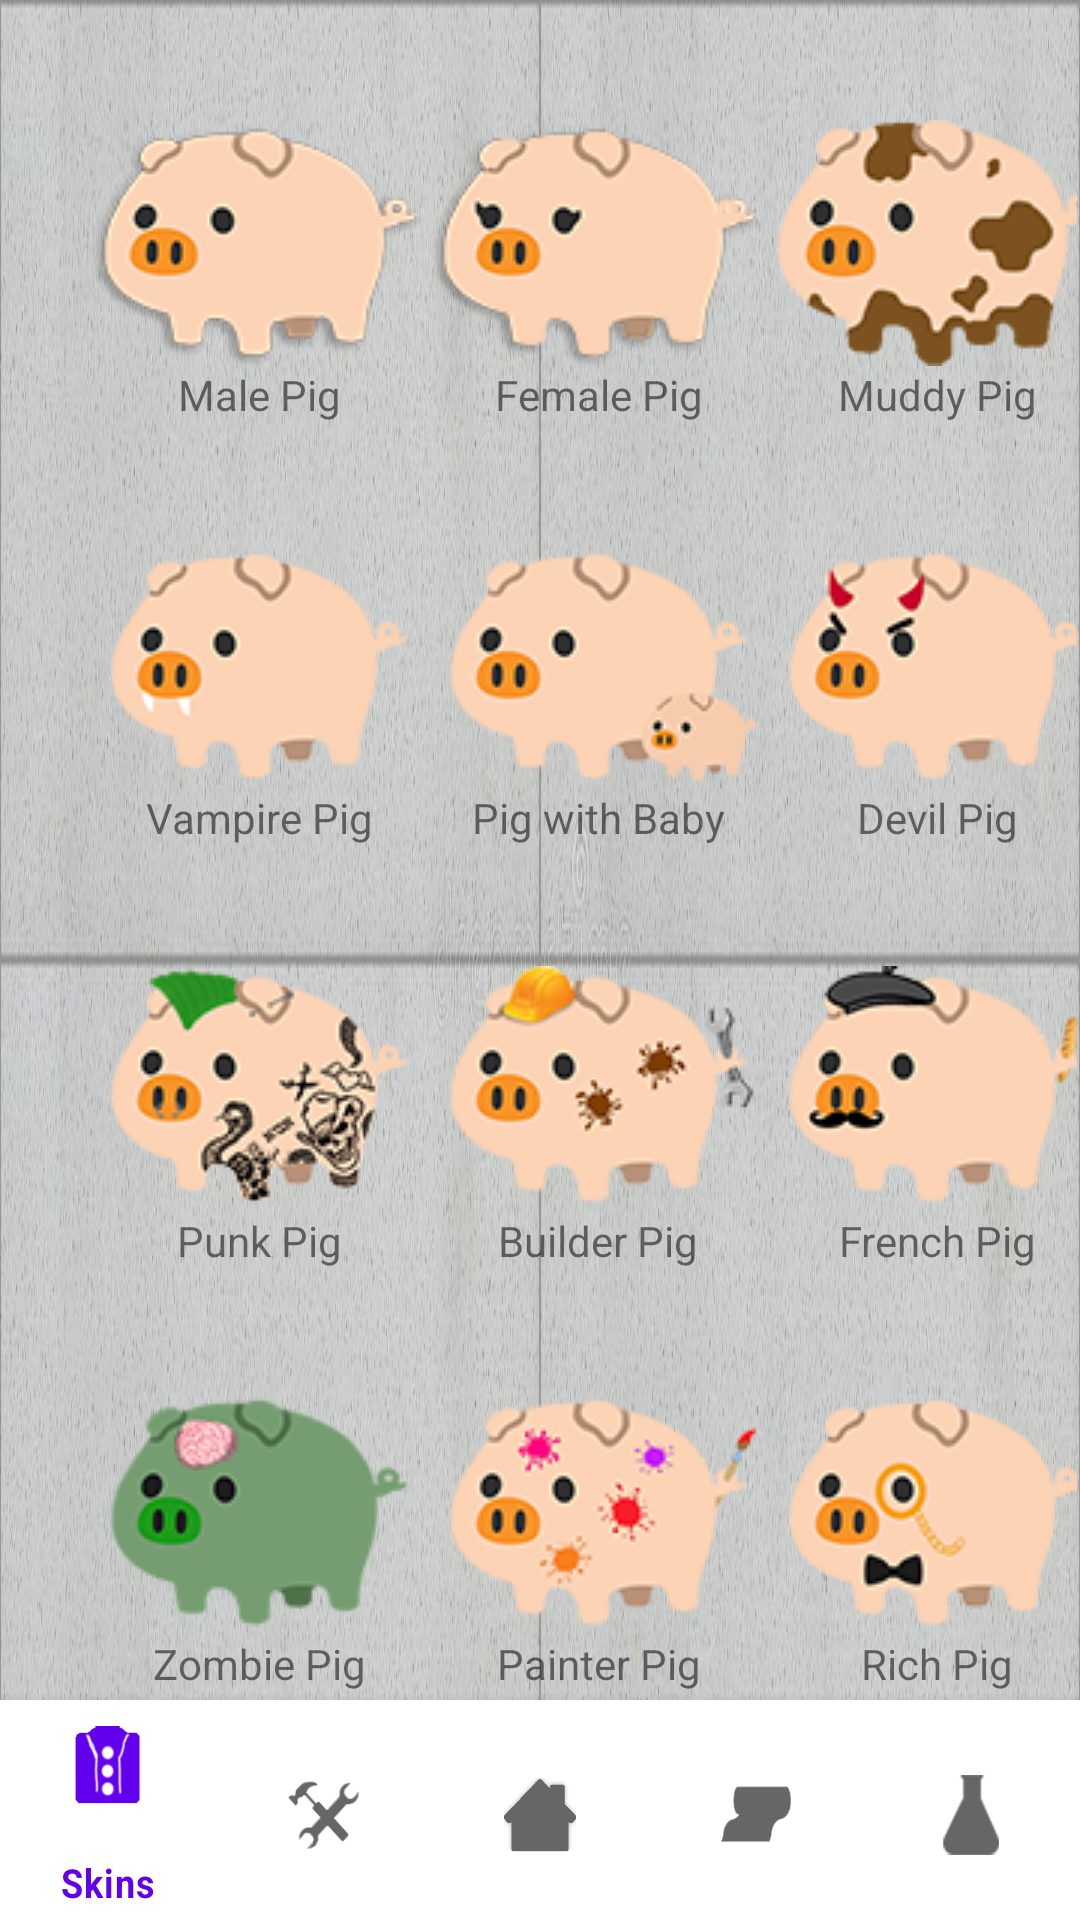

Named icons in this screenshot (1080×1920) and their bounding boxes, (x1, y1, x2, y2):
edgyhaziricon: (90, 968, 428, 1212)
formalpigicon: (768, 1389, 1077, 1635)
